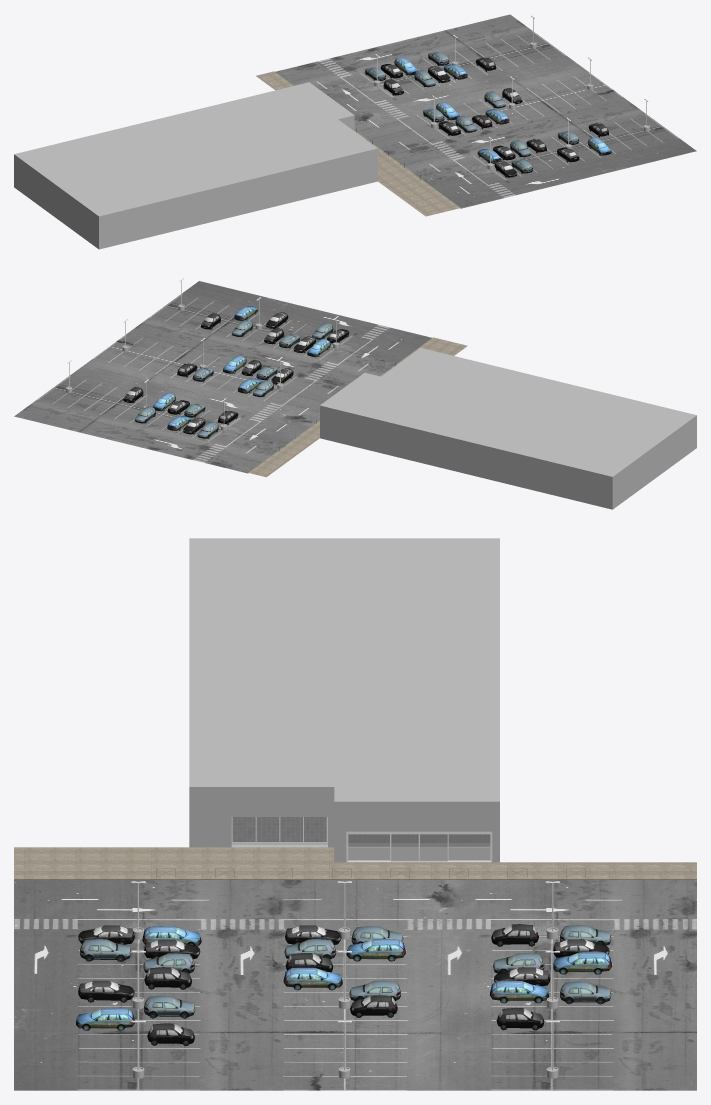
The model's file is Green_Market.FBX.
3 renders of one model, top to bottom at view 1: azimuth 30°, elevation 25°; view 2: azimuth 150°, elevation 25°; view 3: azimuth 270°, elevation 25°, orthographic. The views are drawn at different scales.
Visible parts, largest first — view 1: GMarket_Parking, GMarket_out, GMarket_vehicules, GMarket_pavement, GMarket_ext_lights; view 2: GMarket_out, GMarket_Parking, GMarket_vehicules, GMarket_pavement, GMarket_ext_lights; view 3: GMarket_Parking, GMarket_out, GMarket_vehicules, GMarket_pavement, GMarket_int, GMarket_glass_01, GMarket_ext_lights, GMarket_glass_02, GMarket_Doors_body001.
Boxes of the visible parts, x1,y1,x2,y2 form: GMarket_Parking: (275,14,696,208); GMarket_out: (14,82,377,249); GMarket_vehicules: (364,51,611,177); GMarket_pavement: (256,71,460,216); GMarket_ext_lights: (374,15,649,169); GMarket_out: (320,348,696,509); GMarket_Parking: (14,281,431,473); GMarket_vehicules: (123,306,349,438); GMarket_pavement: (248,337,467,477); GMarket_ext_lights: (66,278,339,430); GMarket_Parking: (14,880,696,1090); GMarket_out: (189,538,499,862); GMarket_vehicules: (76,924,611,1045); GMarket_pavement: (14,847,696,879); GMarket_int: (231,817,491,862); GMarket_glass_01: (232,817,326,842); GMarket_ext_lights: (131,881,559,1078); GMarket_glass_02: (348,834,490,860); GMarket_Doors_body001: (346,831,492,861).
Size of the model in its own units: 91.08 by 5.37 by 53.57.
